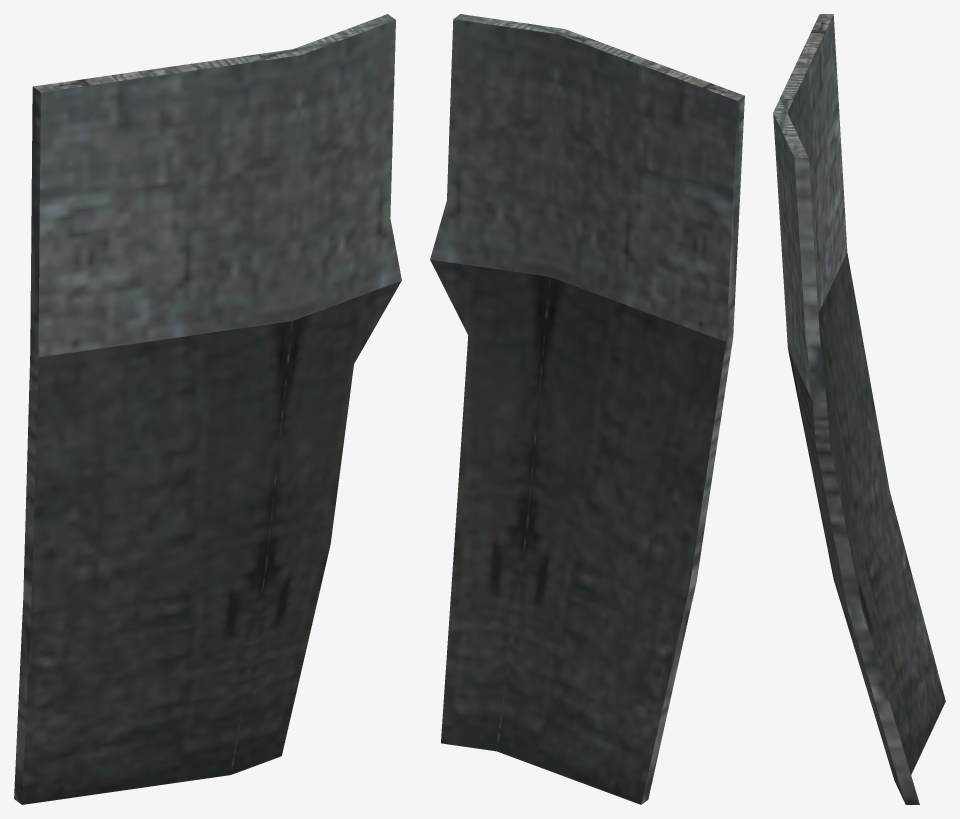
The model's file is flower_barrel_dead_p5.glb.
3 renders of one model, left to right at view 1: azimuth 30°, elevation 25°; view 2: azimuth 150°, elevation 25°; view 3: azimuth 270°, elevation 25°, orthographic. The views are drawn at different scales.
Visible parts, largest first — view 1: flower_barrel_dead_p5; view 2: flower_barrel_dead_p5; view 3: flower_barrel_dead_p5.
Boxes of the visible parts, <box> form: flower_barrel_dead_p5: <box>14,14,401,804</box>; flower_barrel_dead_p5: <box>430,14,744,804</box>; flower_barrel_dead_p5: <box>773,14,945,804</box>.
Bounding box in the file's own units: 0.2127 × 0.439 × 0.1029.
Materials: 1 (1 with a texture image).
